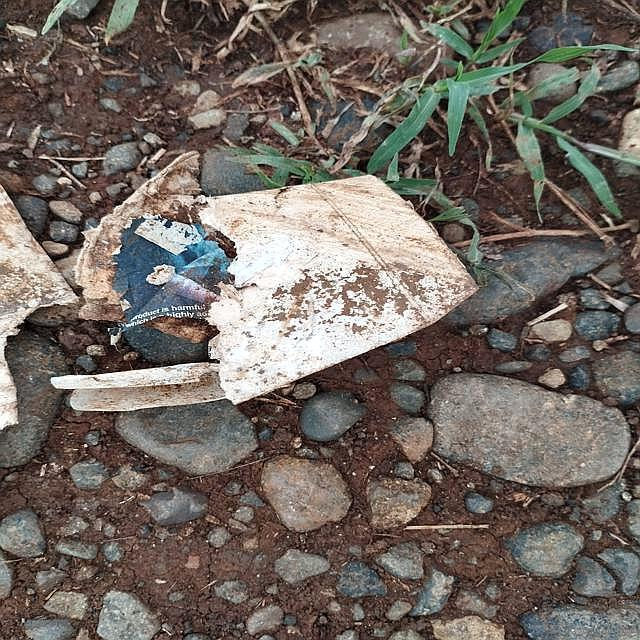Biodegradable: (65, 172, 496, 440)
